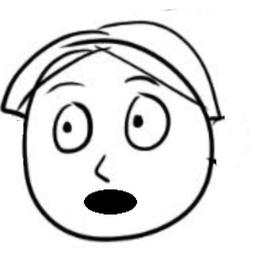eye: (122, 94, 173, 156), (49, 101, 93, 157)
eyebrow: (46, 78, 87, 95), (121, 72, 159, 88)
open_mouth: (83, 186, 139, 220)
pointy_nose: (92, 154, 116, 183)
